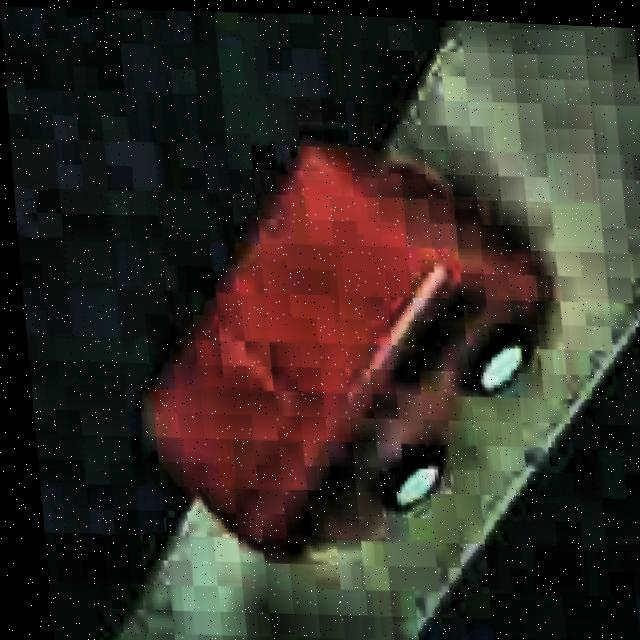bus: (119, 132, 574, 576)
